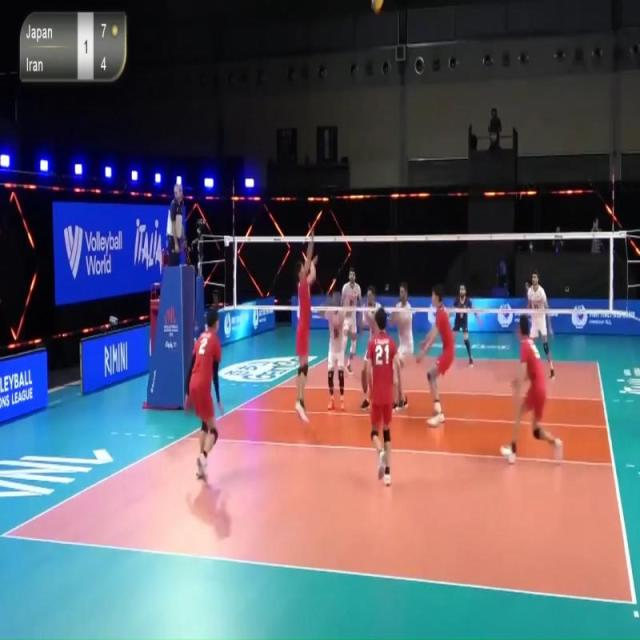volleyball: (371, 0, 383, 15)
